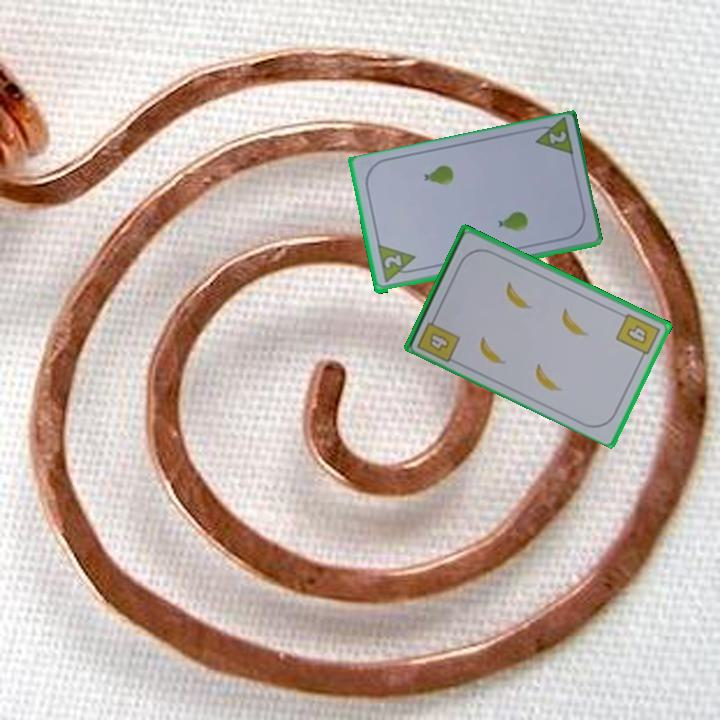2p: (374, 242, 420, 286), (545, 128, 569, 147)
4b: (612, 309, 663, 363), (414, 310, 463, 365)
